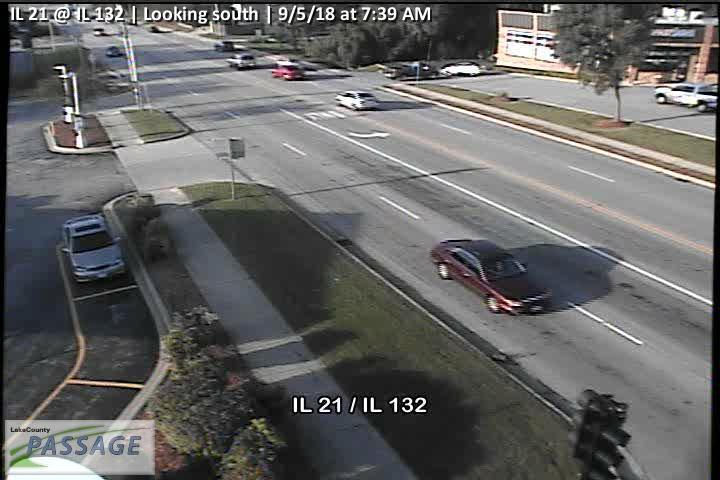SUV: (439, 60, 481, 77), (226, 52, 257, 70)
Sedan: (430, 238, 553, 315), (61, 214, 127, 283), (334, 90, 379, 110), (270, 65, 305, 81)
Truck: (382, 61, 437, 81)
